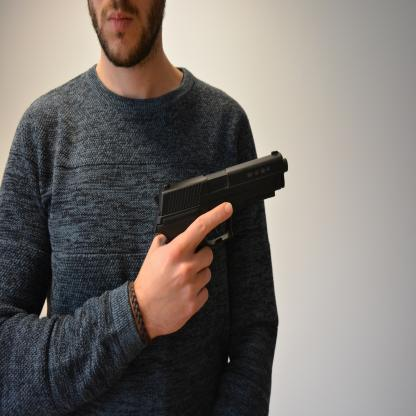pistol: (152, 149, 289, 252)
